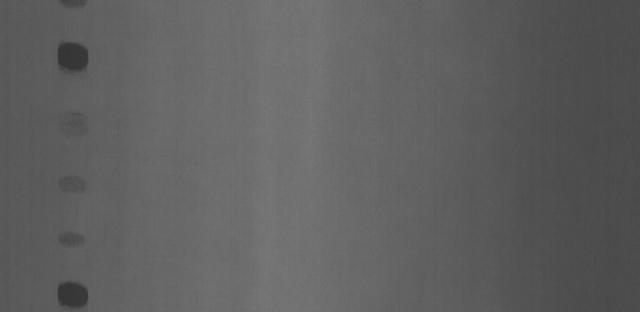oil_spot: (54, 268, 98, 306), (59, 106, 94, 140), (57, 40, 93, 72), (59, 172, 89, 198), (58, 226, 84, 247), (60, 0, 94, 9)
